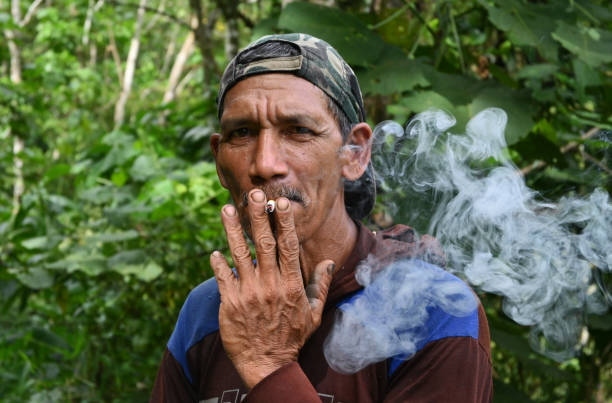cigarette: (263, 198, 277, 213)
